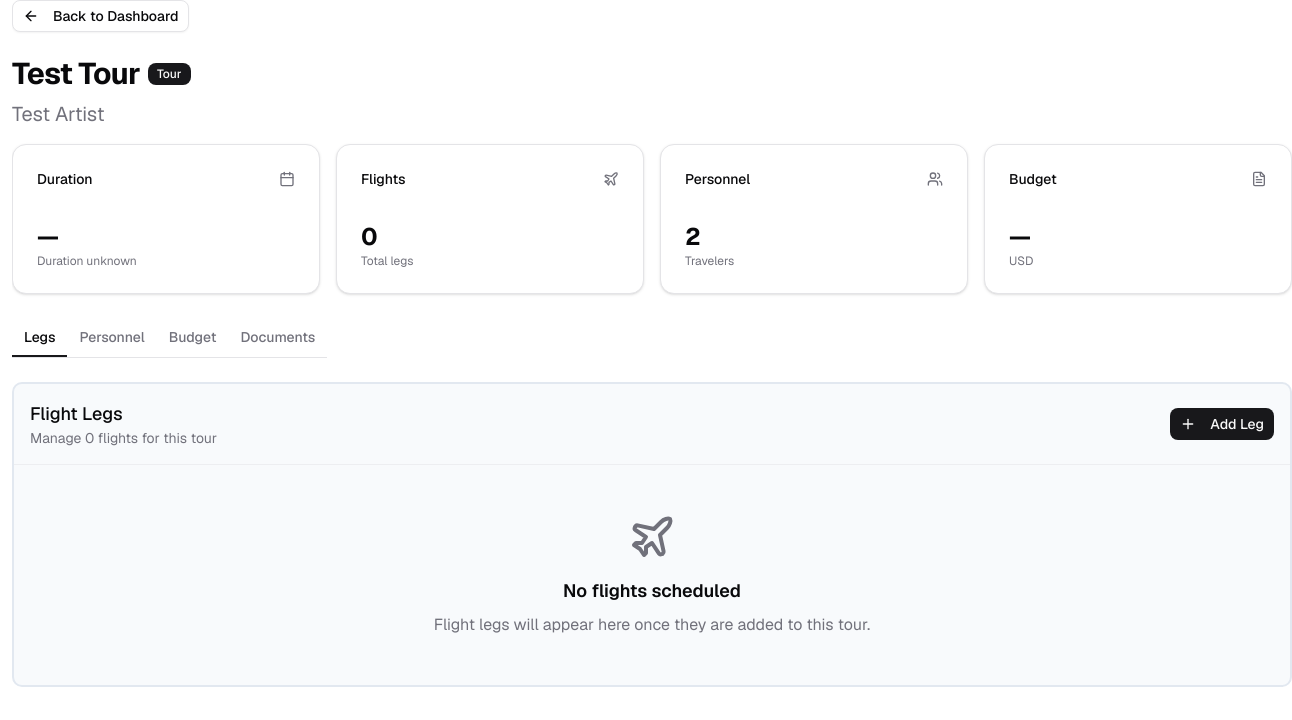
Test: Tour Page - Inline Party Selector Integration › Personnel Table Rendering › should render personnel table with party selectors
CONTEXT: Click on Personnel tab to show personnel data
Click the tab "Personnel": click(112, 338) [68, 318, 157, 356]
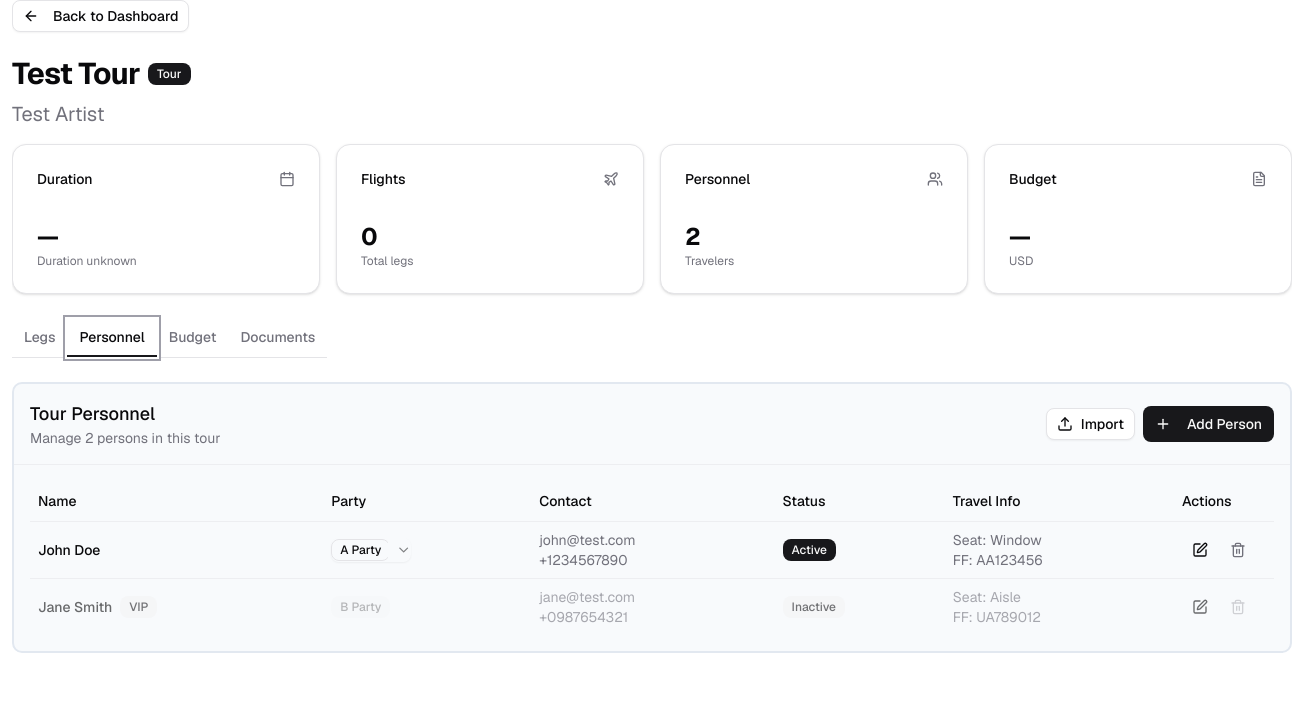
Result: the text "John Doe" is shown at [38, 540, 100, 560]
Result: the text "Jane Smith" is shown at [38, 596, 112, 616]
Result: the text "A Party" is shown at [331, 538, 388, 560]
